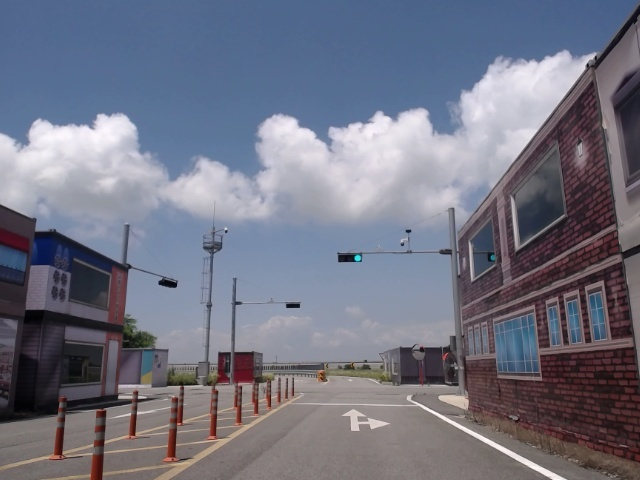green_3: (338, 254, 362, 263)
